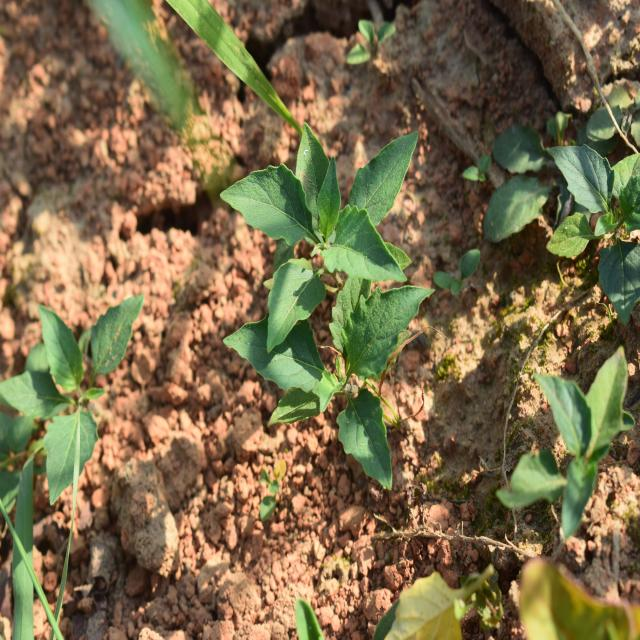Black_nightshade: (242, 282, 413, 474), (224, 114, 405, 290), (7, 282, 150, 474)
